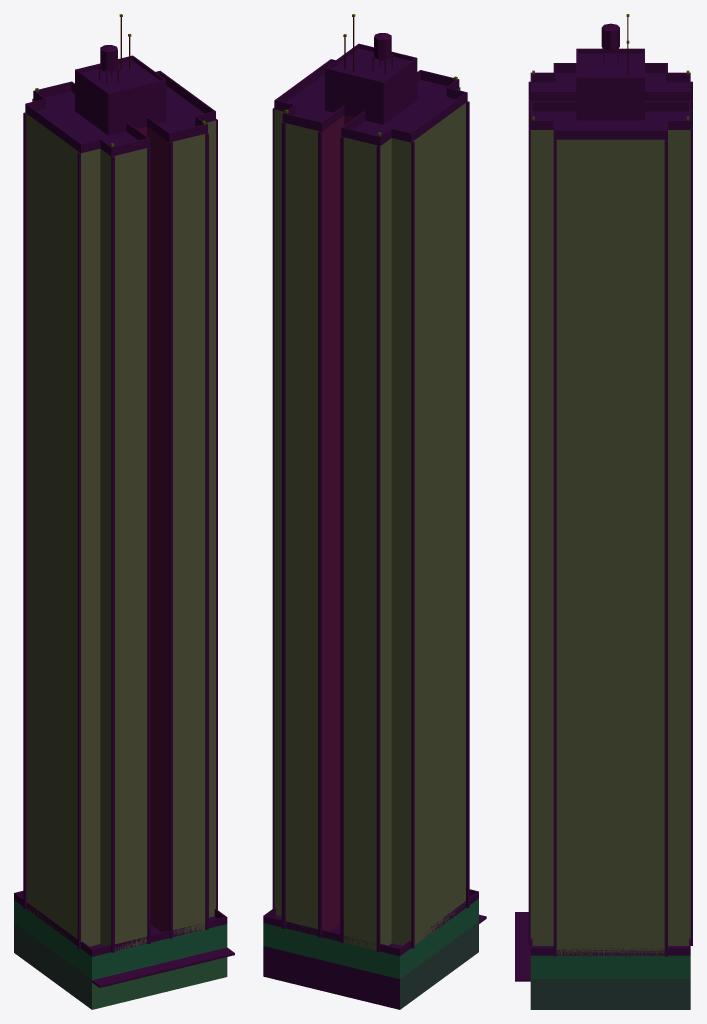
File: restower_a.lod1.glb
The picture shows the model from 3 angles, left to right: view 1: azimuth 30°, elevation 25°; view 2: azimuth 150°, elevation 25°; view 3: azimuth 270°, elevation 25°; orthographic projection. The views are drawn at different scales.
Parts seen in each view (by area): view 1: restower_a.lod1; view 2: restower_a.lod1; view 3: restower_a.lod1.
Part boxes in pixels (x1=…): restower_a.lod1: x1=14, y1=14, x2=234, y2=1009; restower_a.lod1: x1=263, y1=14, x2=486, y2=1009; restower_a.lod1: x1=515, y1=14, x2=692, y2=1009.
Bounding box in the file's own units: 23 × 149 × 24.9.
